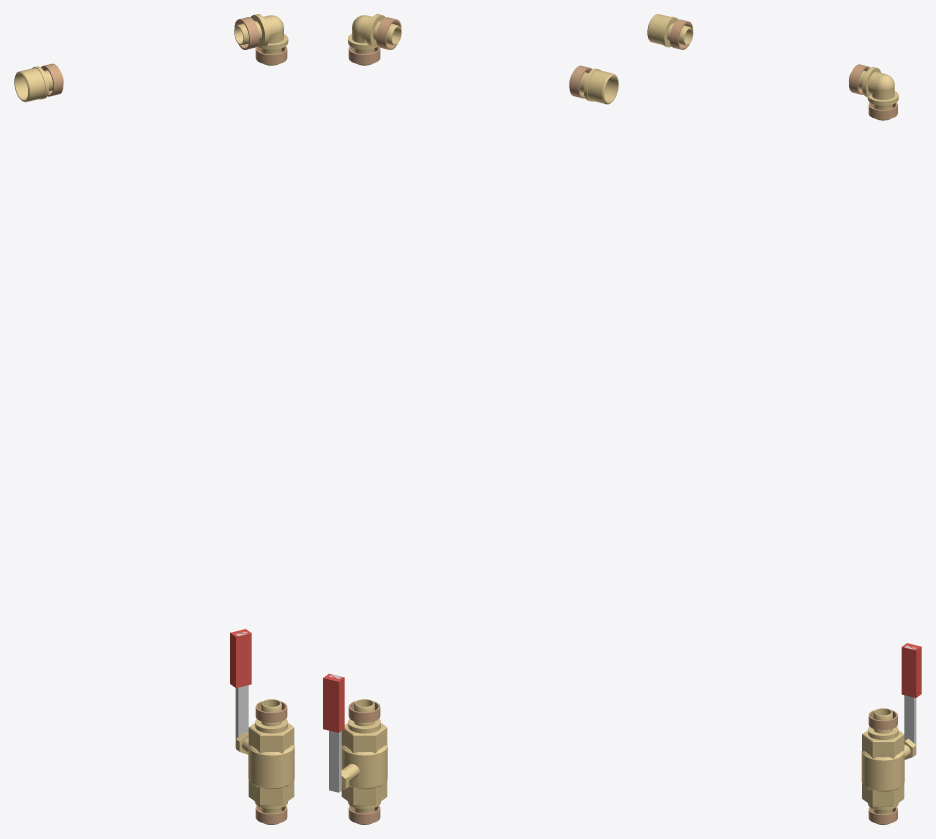
Rendered from pipes_supply__water_heater__eb76e280__r4y.glb.
3 views of the same model, side by side, from view 1: azimuth 30°, elevation 25°; view 2: azimuth 150°, elevation 25°; view 3: azimuth 330°, elevation 25° (orthographic). The views are drawn at different scales.
Parts seen in each view (by area): view 1: valve_supply_wh_cold__pex, fit_pexelbow_pipe_supply_cold_riser__pex_0, fit_adapter_pipe_supply_cold_riser__pex; view 2: valve_supply_wh_cold__pex, fit_pexelbow_pipe_supply_cold_riser__pex_0, fit_adapter_pipe_supply_cold_riser__pex; view 3: valve_supply_wh_cold__pex, fit_pexelbow_pipe_supply_cold_riser__pex_0, fit_adapter_pipe_supply_cold_riser__pex.
Boxes of the visible parts, x1,y1,x2,y2 form: valve_supply_wh_cold__pex: [230, 629, 294, 824]; fit_pexelbow_pipe_supply_cold_riser__pex_0: [234, 14, 288, 65]; fit_adapter_pipe_supply_cold_riser__pex: [14, 63, 63, 102]; valve_supply_wh_cold__pex: [323, 673, 387, 824]; fit_pexelbow_pipe_supply_cold_riser__pex_0: [348, 14, 401, 65]; fit_adapter_pipe_supply_cold_riser__pex: [569, 65, 618, 104]; valve_supply_wh_cold__pex: [861, 643, 921, 824]; fit_pexelbow_pipe_supply_cold_riser__pex_0: [849, 64, 898, 120]; fit_adapter_pipe_supply_cold_riser__pex: [647, 14, 693, 49].
Bounding box in the file's own units: 0.2374 × 0.6824 × 0.0691.
